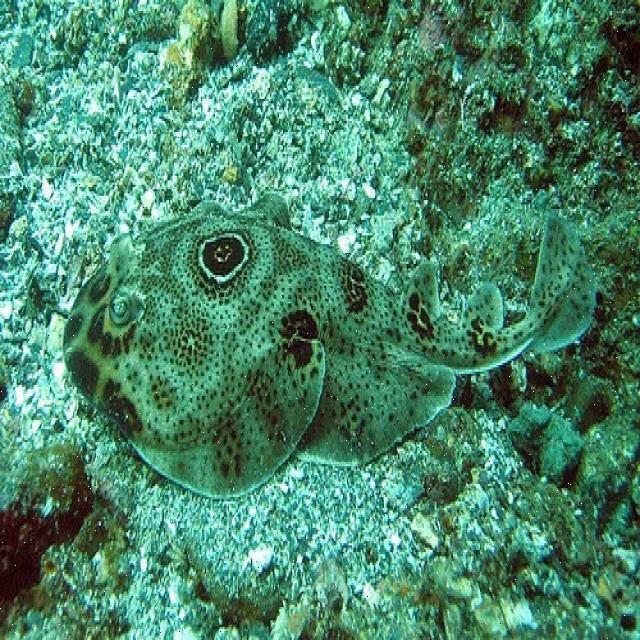fish: (61, 192, 598, 500)
